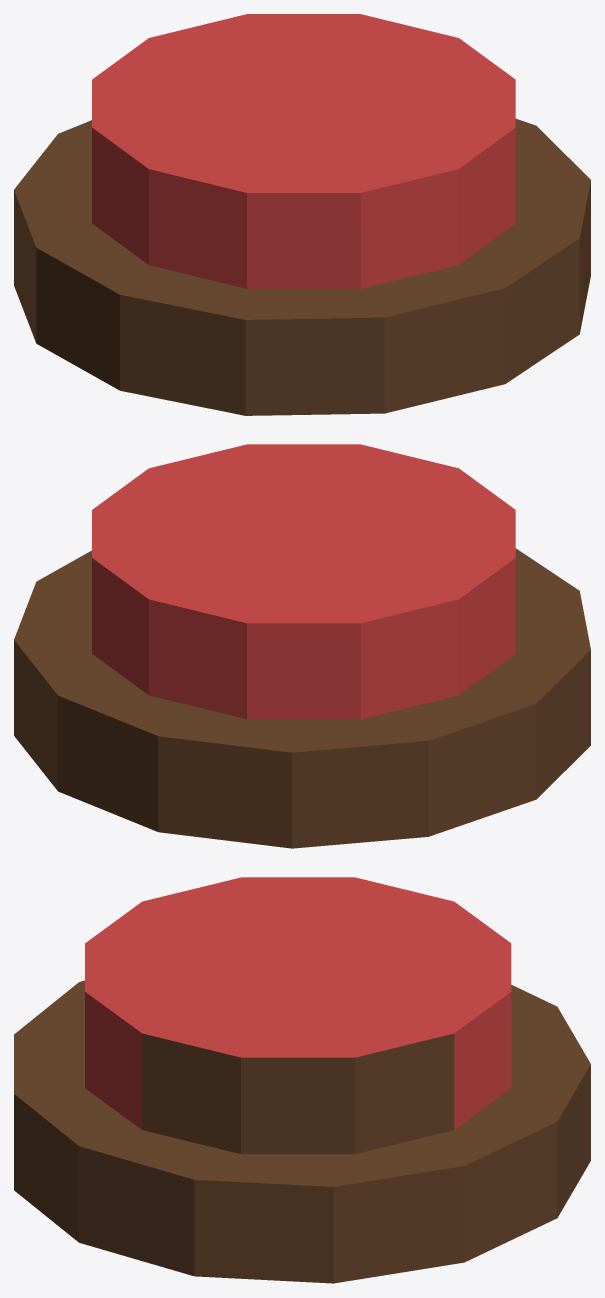
Rendered from Button.fbx.
3 views of the same model, one above another, from view 1: azimuth 30°, elevation 25°; view 2: azimuth 150°, elevation 25°; view 3: azimuth 270°, elevation 25° (orthographic).
Visible parts, largest first — view 1: cylinder_1, cylinder; view 2: cylinder_1, cylinder; view 3: cylinder_1, cylinder.
Boxes of the visible parts, <box> form: cylinder_1: <box>92,14,515,288</box>; cylinder: <box>14,118,590,415</box>; cylinder_1: <box>92,444,515,719</box>; cylinder: <box>14,548,590,848</box>; cylinder_1: <box>85,877,511,1154</box>; cylinder: <box>14,980,590,1283</box>.
Size of the model in its own units: 102 by 37.5 by 101.
Materials: 1 (1 with a texture image).
